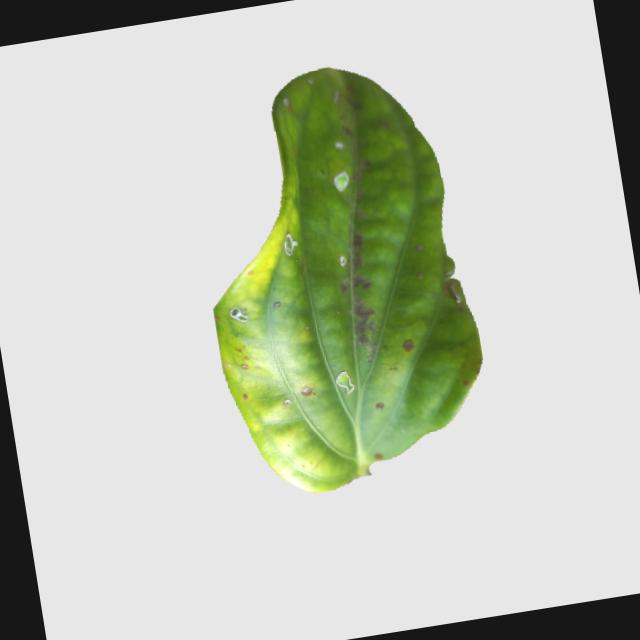yellow-mottle-virus: (178, 52, 509, 504)
